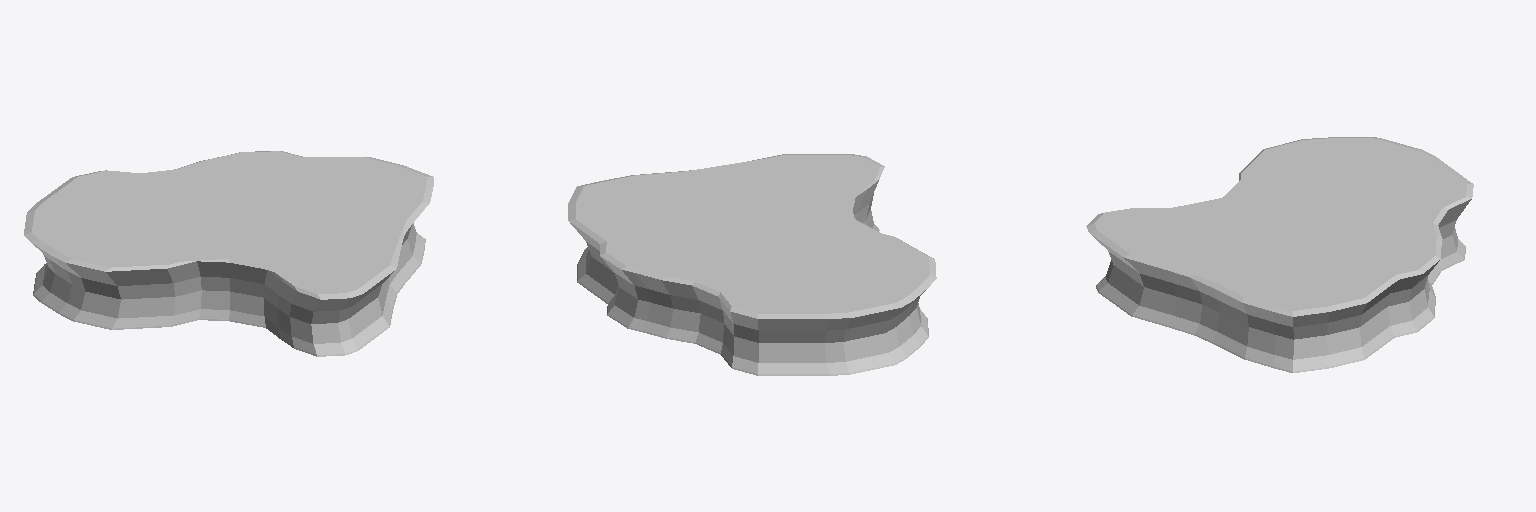
The model's file is island_02.obj.
3 views of the same model, side by side, from view 1: azimuth 30°, elevation 25°; view 2: azimuth 150°, elevation 25°; view 3: azimuth 270°, elevation 25° (orthographic).
Visible parts, largest first — view 1: island_02_Cube.007; view 2: island_02_Cube.007; view 3: island_02_Cube.007.
Part boxes in pixels (x1,y1,x2,y2): island_02_Cube.007: (24, 151, 433, 356); island_02_Cube.007: (568, 154, 936, 375); island_02_Cube.007: (1086, 137, 1473, 372).
Bounding box in the file's own units: 77.87 × 12.65 × 70.77.